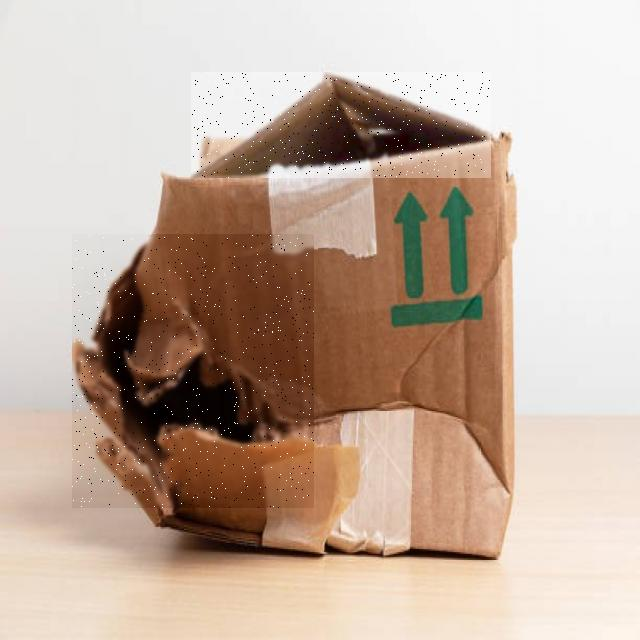leakage: (73, 236, 314, 508)
tear: (192, 73, 490, 178)
